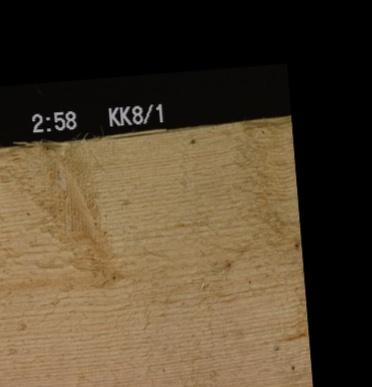small_knot: (291, 240, 299, 249), (188, 136, 194, 145)
